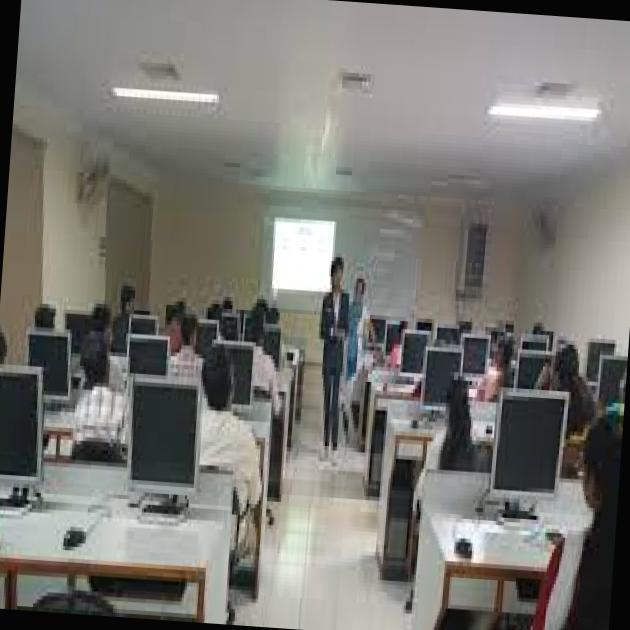desk: (0, 485, 229, 624), (402, 475, 545, 630)
